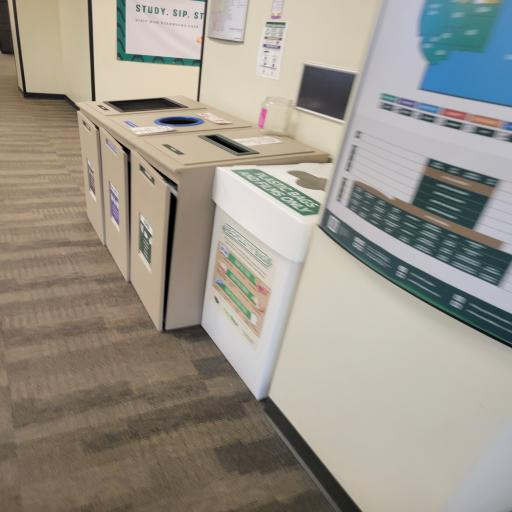trash cans: (64, 88, 314, 338)
